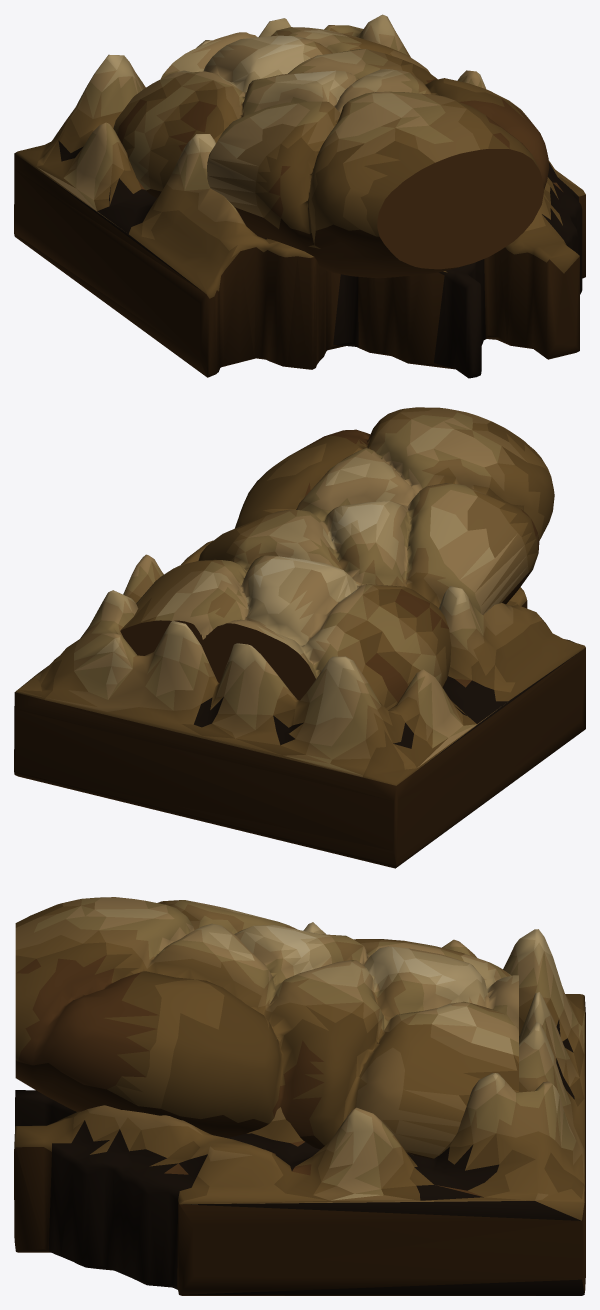
The model's file is ixm_maw_49.glb.
3 renders of one model, top to bottom at view 1: azimuth 30°, elevation 25°; view 2: azimuth 150°, elevation 25°; view 3: azimuth 270°, elevation 25°, orthographic. The views are drawn at different scales.
Visible parts, largest first — view 1: ixm_maw_49; view 2: ixm_maw_49; view 3: ixm_maw_49.
Boxes of the visible parts, x1,y1,x2,y2 form: ixm_maw_49: (14, 14, 585, 378); ixm_maw_49: (14, 407, 585, 868); ixm_maw_49: (14, 897, 585, 1295).
Size of the model in its own units: 24.14 by 14.73 by 27.95.
